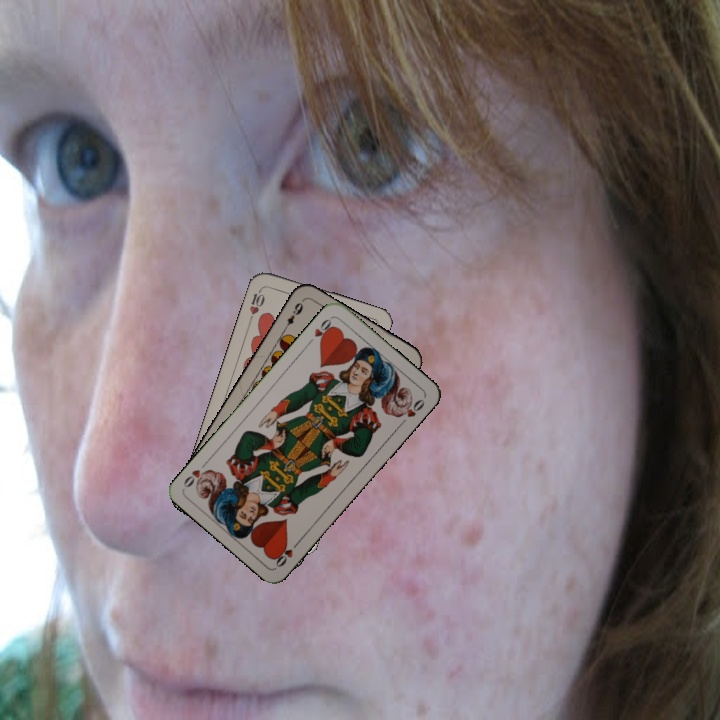E9: (279, 297, 306, 334)
H10: (245, 284, 267, 323)
HO: (270, 536, 303, 570), (304, 314, 337, 347)
